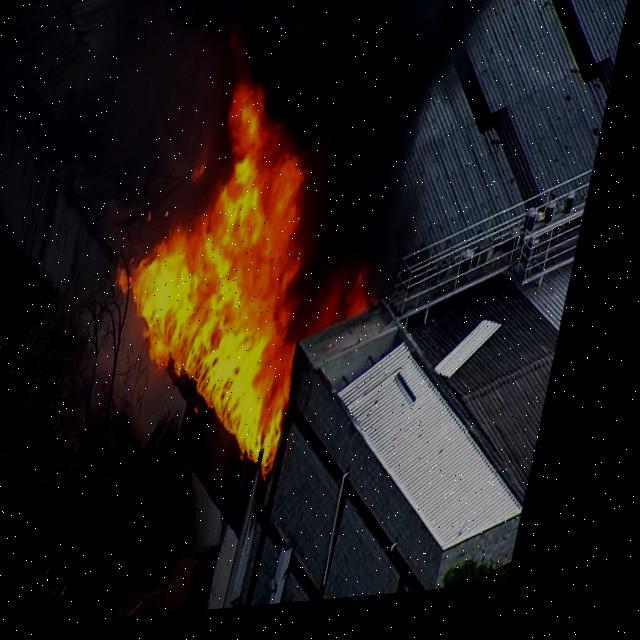Fire: (92, 68, 371, 500), (334, 261, 393, 335)
